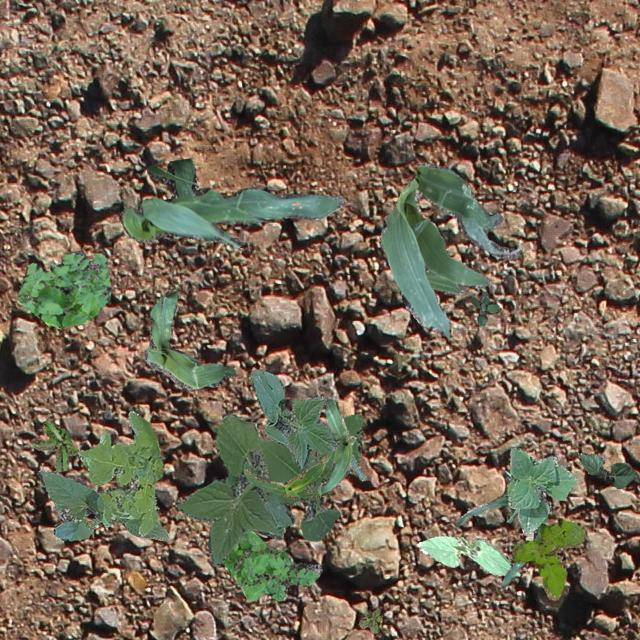crop: (378, 162, 520, 338), (120, 158, 342, 248), (454, 469, 546, 586), (143, 287, 235, 388), (36, 470, 168, 540), (250, 368, 336, 468), (506, 446, 576, 534), (316, 398, 364, 494), (243, 451, 331, 498), (416, 536, 518, 576), (576, 452, 636, 488)
weed: (175, 412, 362, 566), (76, 410, 162, 536), (16, 250, 110, 328), (222, 528, 322, 600), (511, 518, 584, 600), (32, 420, 78, 470), (470, 290, 498, 326), (358, 608, 381, 632)
